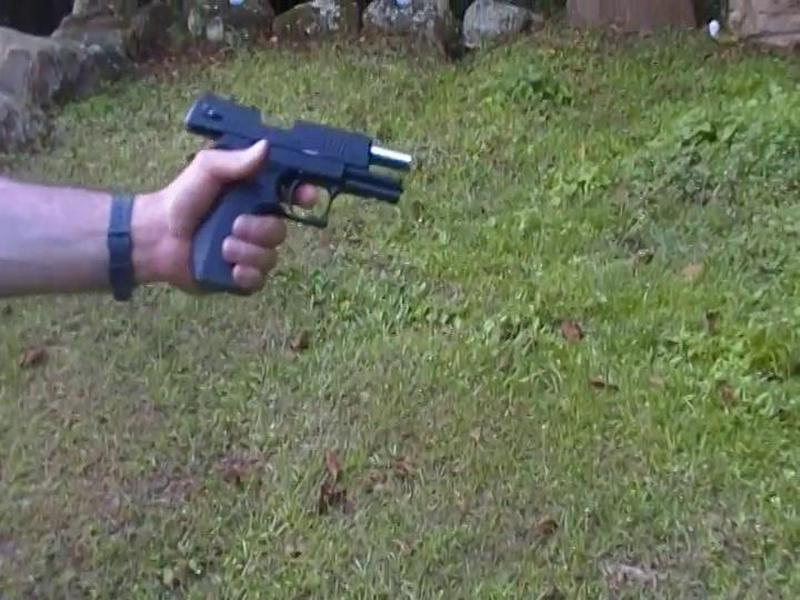Pistola: (141, 89, 438, 296)
